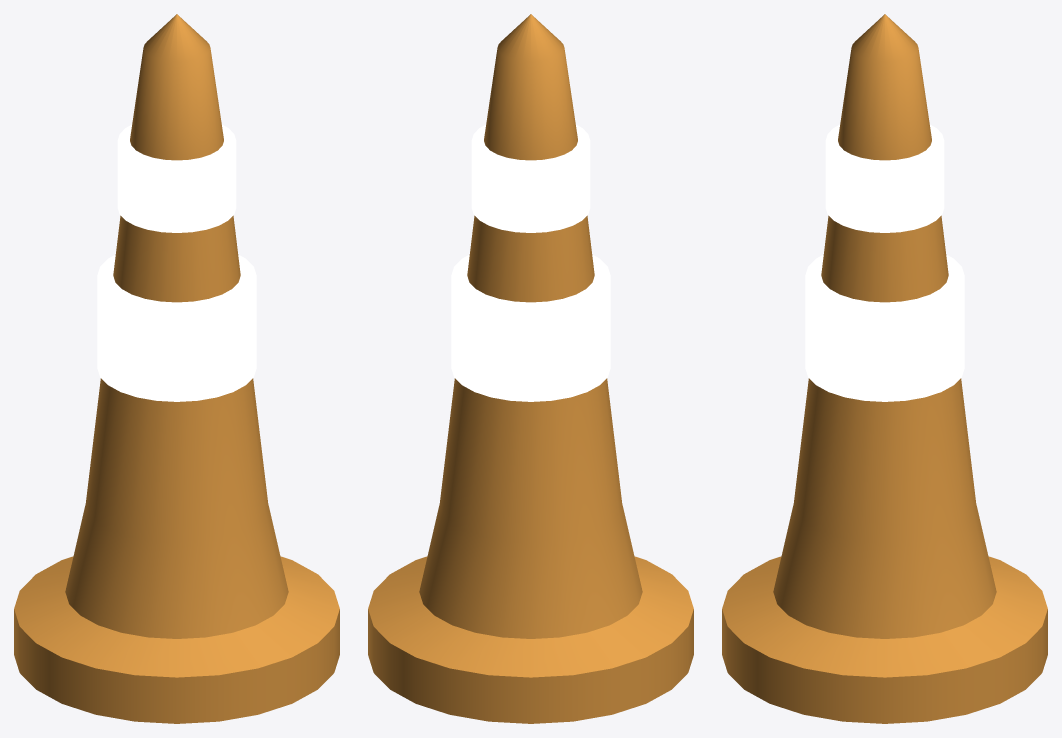
The model's file is th39_pylon.glb.
The picture shows the model from 3 angles, left to right: view 1: azimuth 30°, elevation 25°; view 2: azimuth 150°, elevation 25°; view 3: azimuth 270°, elevation 25°; orthographic projection.
Parts seen in each view (by area): view 1: Pylon, Cylinder, Cylinder.001; view 2: Pylon, Cylinder, Cylinder.001; view 3: Pylon, Cylinder, Cylinder.001.
Part boxes in pixels (x1,y1,x2,y2): Pylon: [14, 14, 339, 723]; Cylinder: [97, 254, 256, 401]; Cylinder.001: [117, 124, 236, 232]; Pylon: [368, 14, 693, 723]; Cylinder: [451, 254, 610, 401]; Cylinder.001: [471, 124, 590, 232]; Pylon: [722, 14, 1047, 723]; Cylinder: [805, 254, 964, 401]; Cylinder.001: [825, 124, 944, 232].
Bounding box in the file's own units: 0.35 × 0.76 × 0.35.
